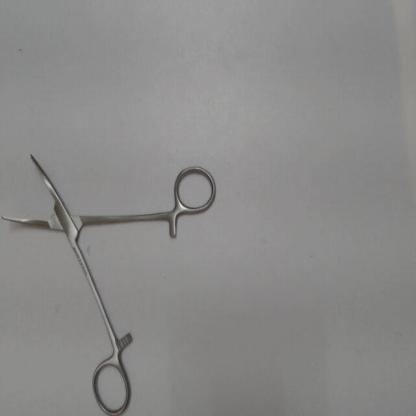Crile Artery Forceps: (0, 143, 219, 413)
